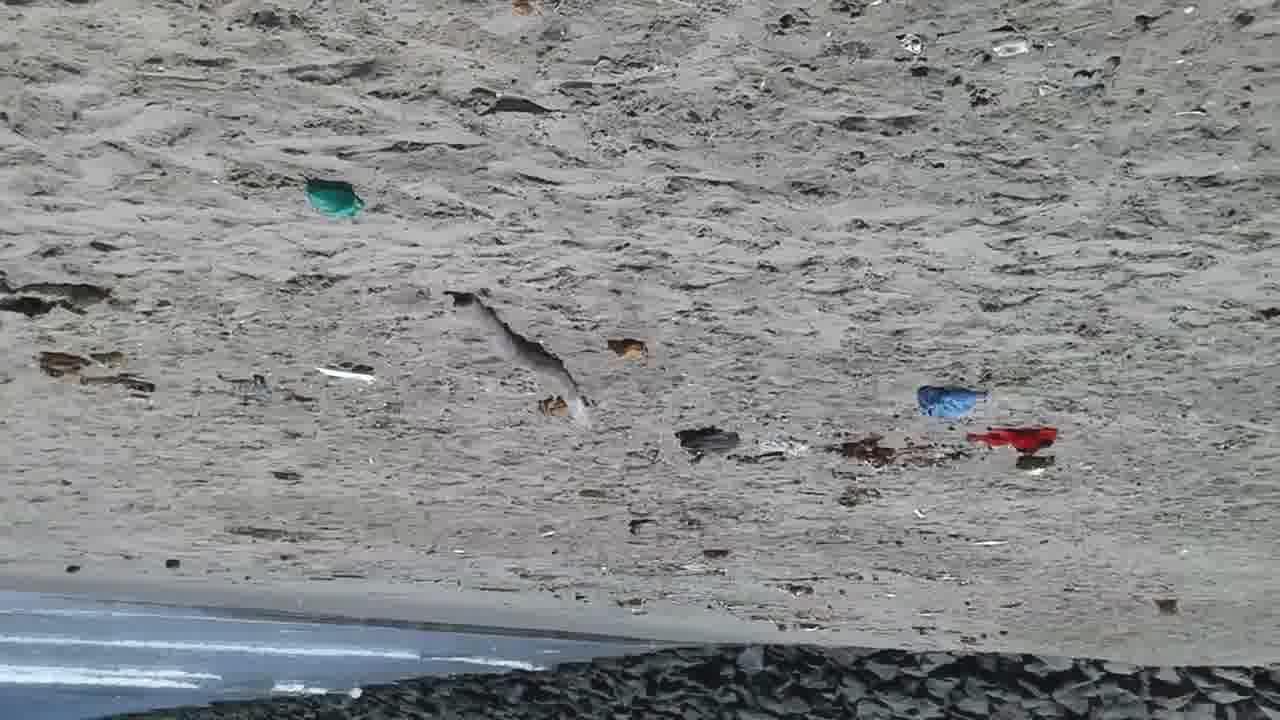large collection of objects: (763, 581, 813, 599), (1017, 458, 1053, 474), (1151, 598, 1180, 617)
obj: (458, 296, 594, 429), (32, 350, 152, 401), (824, 435, 968, 470), (961, 422, 1060, 458), (677, 427, 741, 466), (302, 182, 365, 219), (916, 384, 978, 419), (756, 432, 808, 459), (608, 340, 654, 368), (314, 368, 378, 384)
sand/background: (0, 586, 1280, 719)
